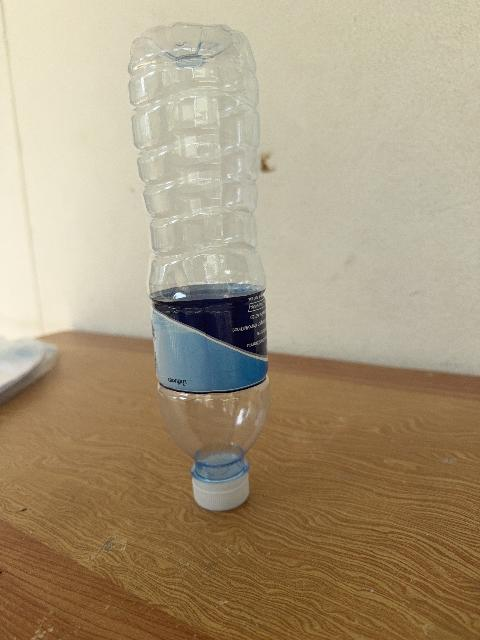bottle: (129, 24, 269, 510)
